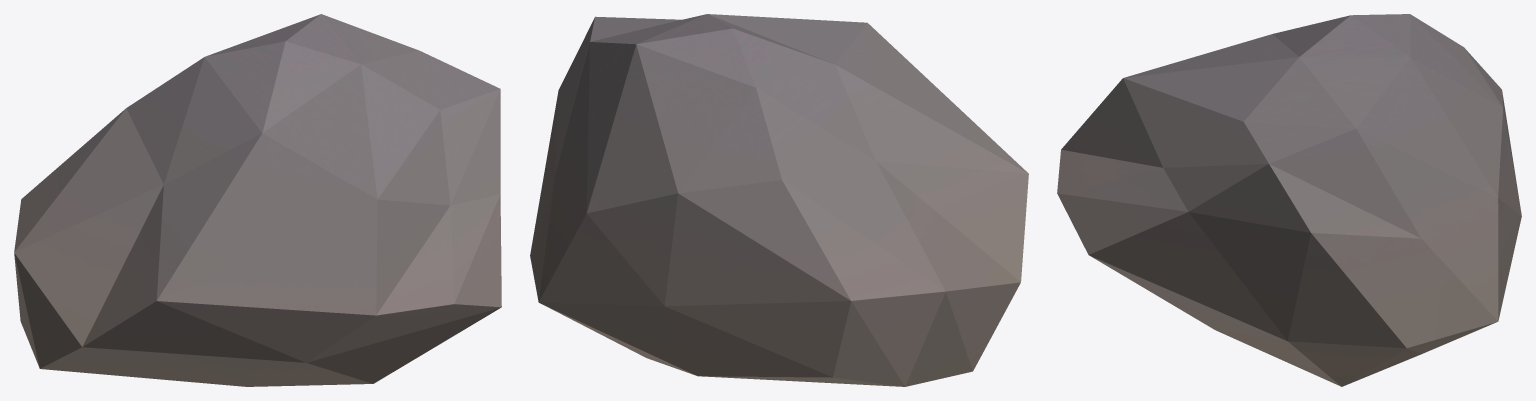
3 views of the same model, side by side, from view 1: azimuth 30°, elevation 25°; view 2: azimuth 150°, elevation 25°; view 3: azimuth 270°, elevation 25° (orthographic). The views are drawn at different scales.
Parts seen in each view (by area): view 1: RockGrey2; view 2: RockGrey2; view 3: RockGrey2.
Boxes of the visible parts, left/top/right/bottom form: RockGrey2: left=14, top=14, right=501, bottom=386; RockGrey2: left=530, top=14, right=1028, bottom=386; RockGrey2: left=1057, top=14, right=1521, bottom=386.
Bounding box in the file's own units: 60 × 42.49 × 54.84.
Materials: 1 (1 with a texture image).
